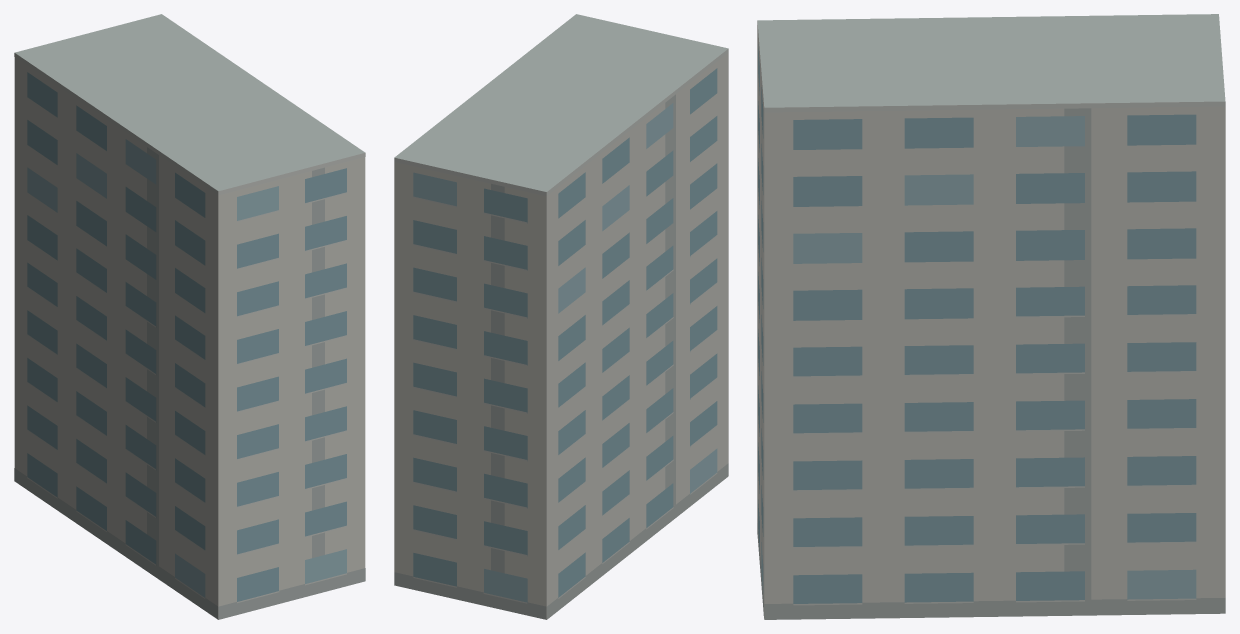
The model's file is residential-b871f482-ca53-4f71-b64b-88b95d7d30d2.glb.
3 renders of one model, left to right at view 1: azimuth 30°, elevation 25°; view 2: azimuth 150°, elevation 25°; view 3: azimuth 270°, elevation 25°, orthographic. The views are drawn at different scales.
Visible parts, largest first — view 1: residential-b871f482-ca53-4f71-b64b-88b95d7d30d2.tmp; view 2: residential-b871f482-ca53-4f71-b64b-88b95d7d30d2.tmp; view 3: residential-b871f482-ca53-4f71-b64b-88b95d7d30d2.tmp.
Part boxes in pixels (x1,y1,x2,y2): residential-b871f482-ca53-4f71-b64b-88b95d7d30d2.tmp: (14,14,365,619); residential-b871f482-ca53-4f71-b64b-88b95d7d30d2.tmp: (394,14,728,619); residential-b871f482-ca53-4f71-b64b-88b95d7d30d2.tmp: (757,14,1225,619).
Size of the model in its own units: 9.82 by 25 by 20.72.
